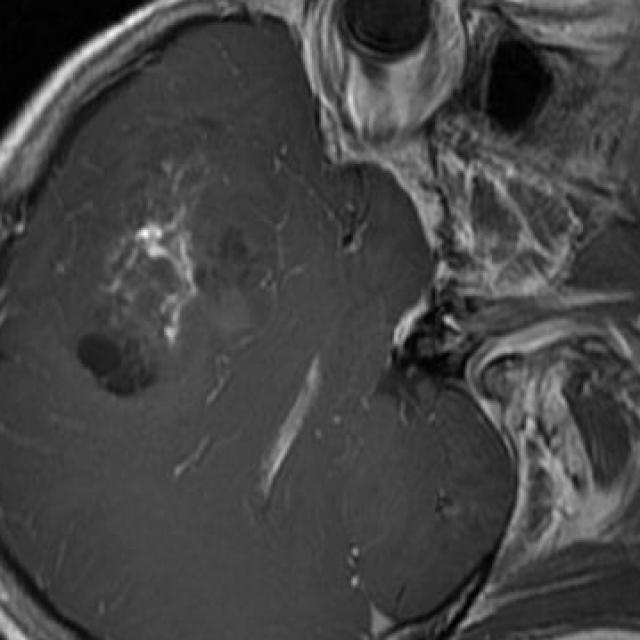glioma: (77, 152, 271, 396)
